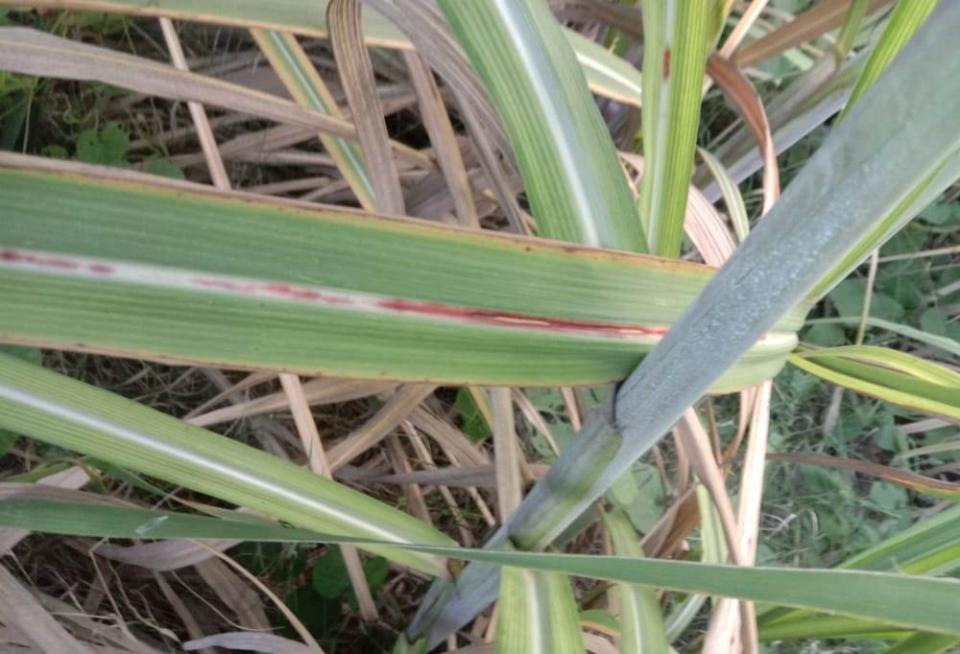RedRot: (375, 301, 663, 337), (186, 277, 359, 306), (0, 246, 118, 275)
Yellow: (0, 152, 718, 273), (0, 336, 619, 385)
